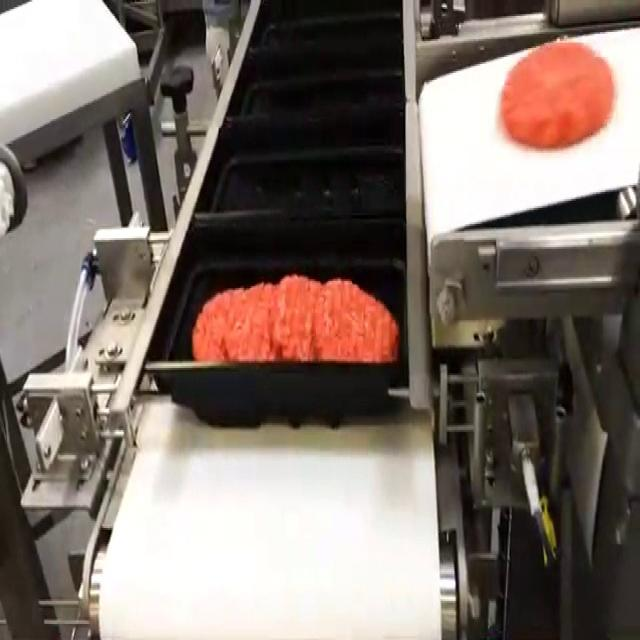4-hamburguer: (192, 274, 398, 361)
